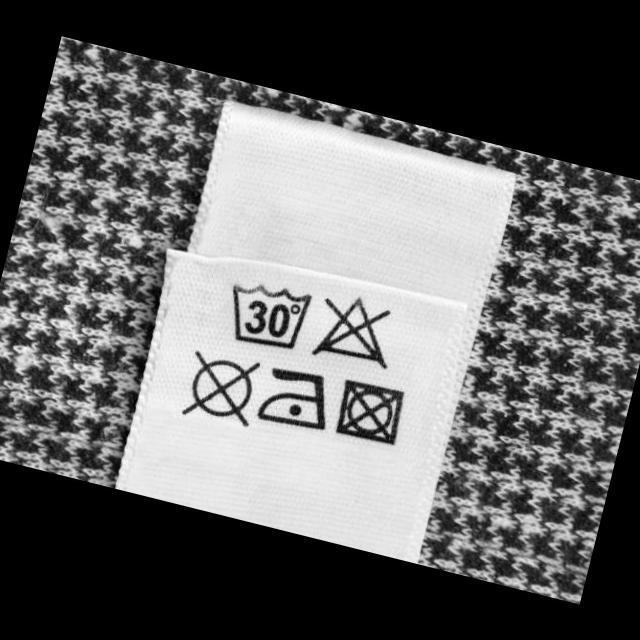30C: (214, 270, 314, 358)
DN_bleach: (306, 285, 404, 376)
DN_dry_clean: (174, 342, 268, 436)
DN_tumble_dry: (327, 370, 412, 450)
iron_low: (253, 356, 342, 439)
